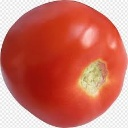tomato: (2, 1, 128, 128)
